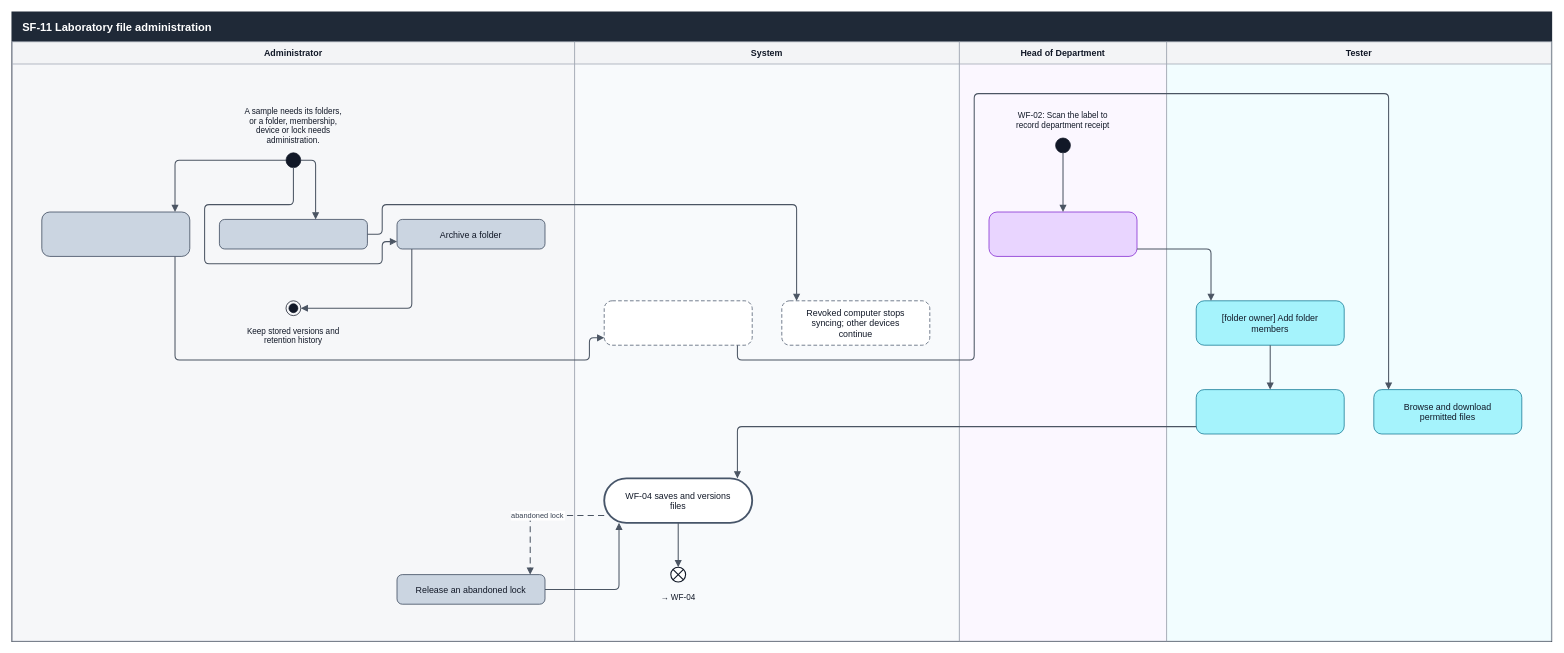
The diagram is 1564 pixels wide and 653 high, and some of its shapes have lost their labels. The shapes that lost their labels are listed below. From the top down, each one's centre as x and y in pixels, then its label:
At (x=115, y=233): "Turn a folder off or restore its availability".
At (x=293, y=234): "Revoke a device".
At (x=1062, y=233): "Create sample raw-data and result folders".
At (x=677, y=322): "Downloads remain available; uploads require active folder".
At (x=1269, y=411): "Bind authorized folders in Medilab Sync".
